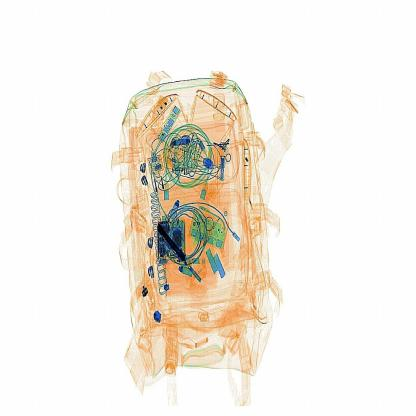knife: (157, 226, 191, 267)
